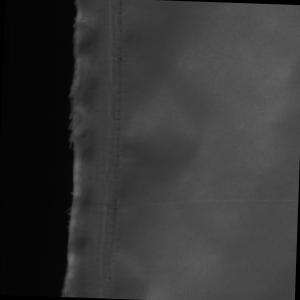Damage: (53, 1, 92, 299)
